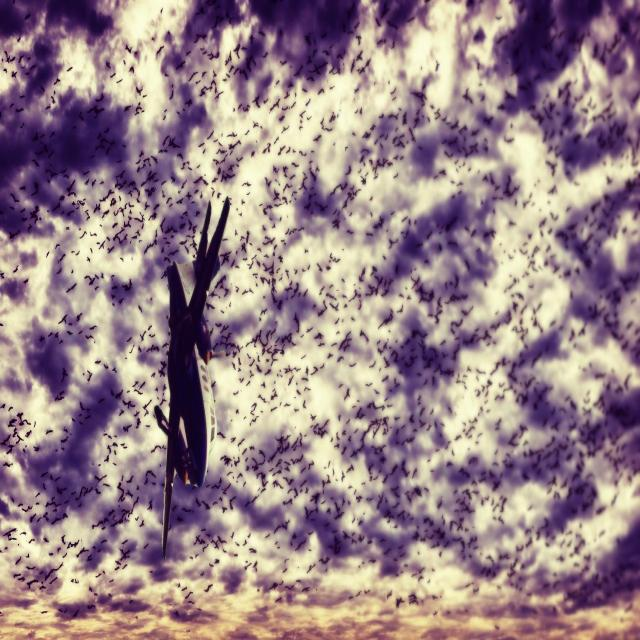airplane: (154, 195, 230, 559)
